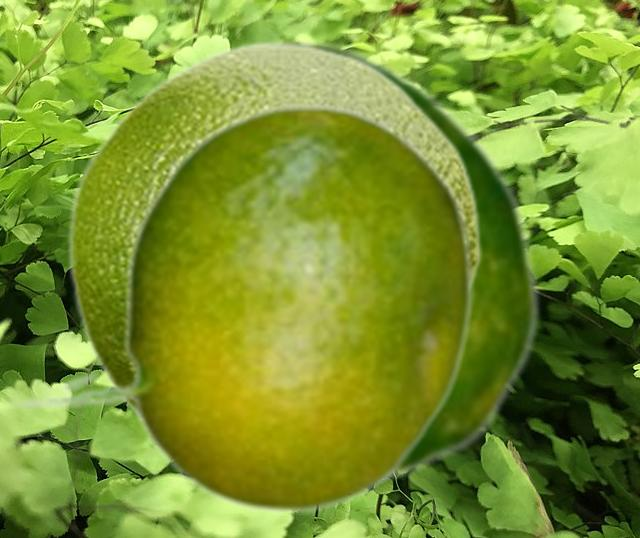calamansi: (7, 101, 473, 513), (66, 40, 481, 418), (247, 36, 542, 491)
